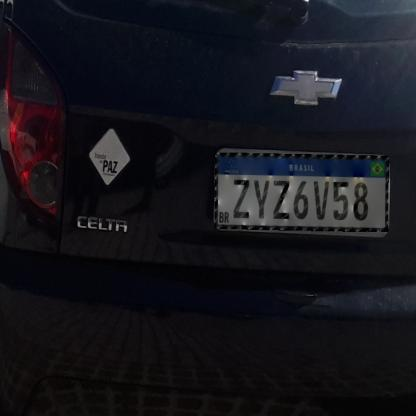PlacaM: (215, 153, 389, 232)
